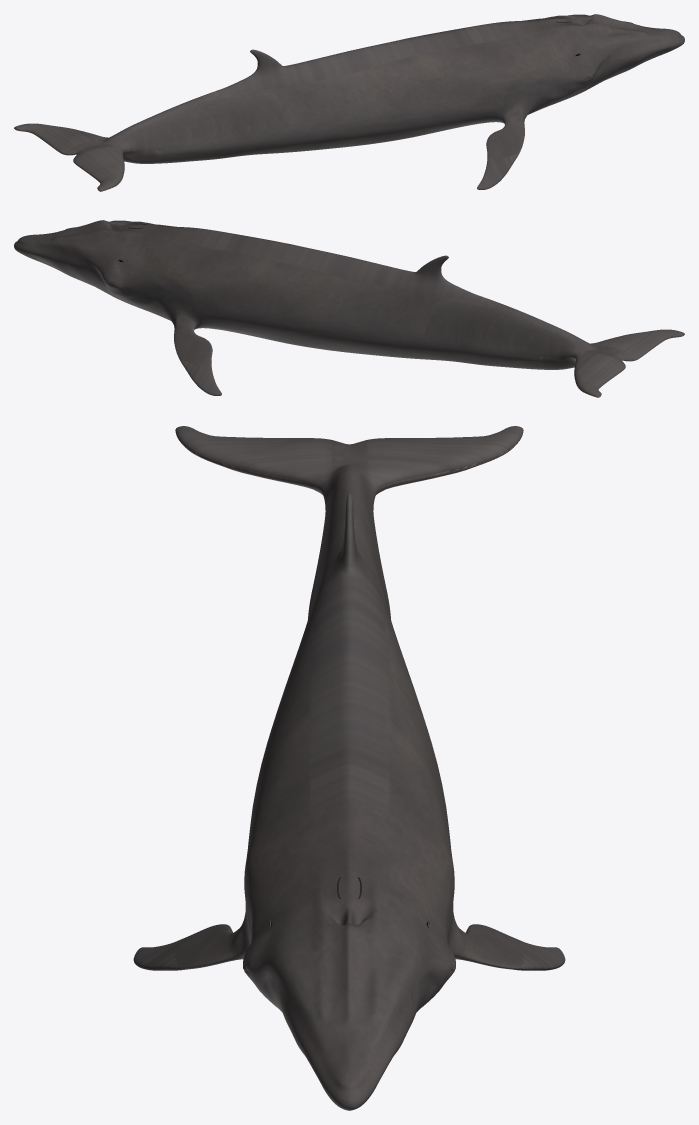
File: model-cetacean-balaenoptera-edeni-v0678.glb
3 views of the same model, one above another, from view 1: azimuth 30°, elevation 25°; view 2: azimuth 150°, elevation 25°; view 3: azimuth 270°, elevation 25° (orthographic). The views are drawn at different scales.
Parts seen in each view (by area): view 1: balaenoptera-edeni licensed source body; view 2: balaenoptera-edeni licensed source body; view 3: balaenoptera-edeni licensed source body.
Boxes of the visible parts, x1=… form: balaenoptera-edeni licensed source body: x1=14, y1=14, x2=684, y2=191; balaenoptera-edeni licensed source body: x1=14, y1=220, x2=684, y2=397; balaenoptera-edeni licensed source body: x1=133, y1=426, x2=565, y2=1110.
Size of the model in its own units: 3.84 by 0.8461 by 1.14.
Materials: 3 (1 with a texture image).
